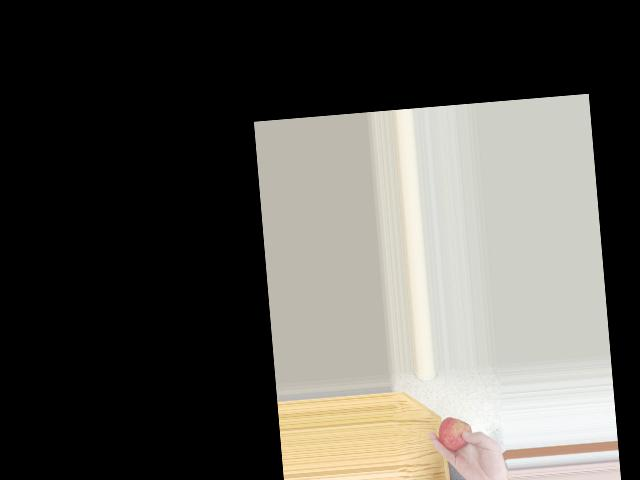apple: (437, 413, 477, 453)
